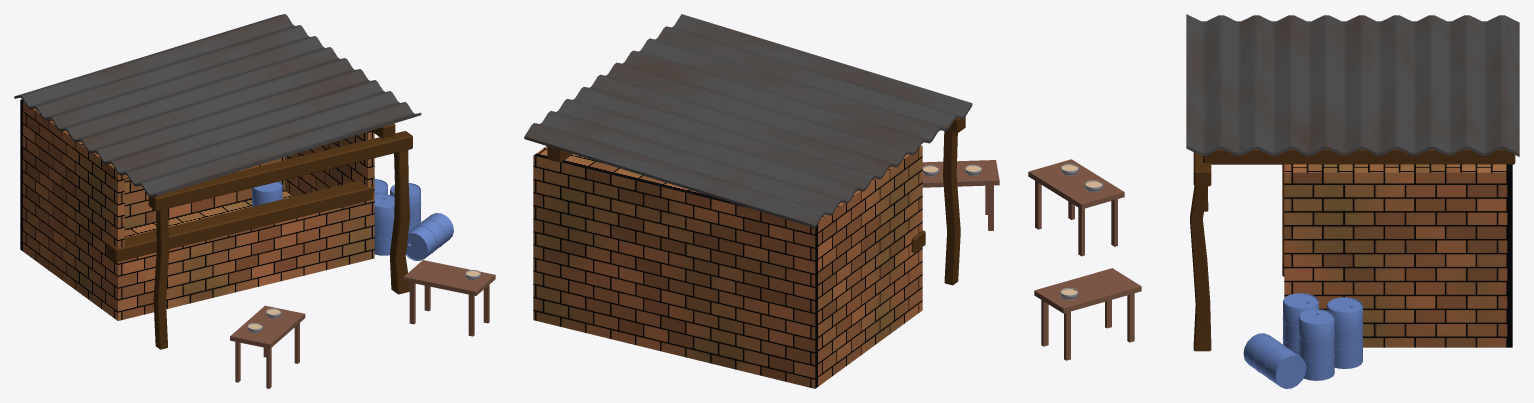
The model's file is Kitchen.fbx.
The picture shows the model from 3 angles, left to right: view 1: azimuth 30°, elevation 25°; view 2: azimuth 150°, elevation 25°; view 3: azimuth 270°, elevation 25°; orthographic projection. The views are drawn at different scales.
Visible parts, largest first — view 1: Kitchen; view 2: Kitchen; view 3: Kitchen.
Boxes of the visible parts, box(x1,y1,x2,y2) form: Kitchen: box(14, 14, 495, 388); Kitchen: box(524, 14, 999, 388); Kitchen: box(1028, 14, 1519, 388).
Bounding box in the file's own units: 161 × 82.44 × 175.
Materials: 9 (2 with a texture image).
